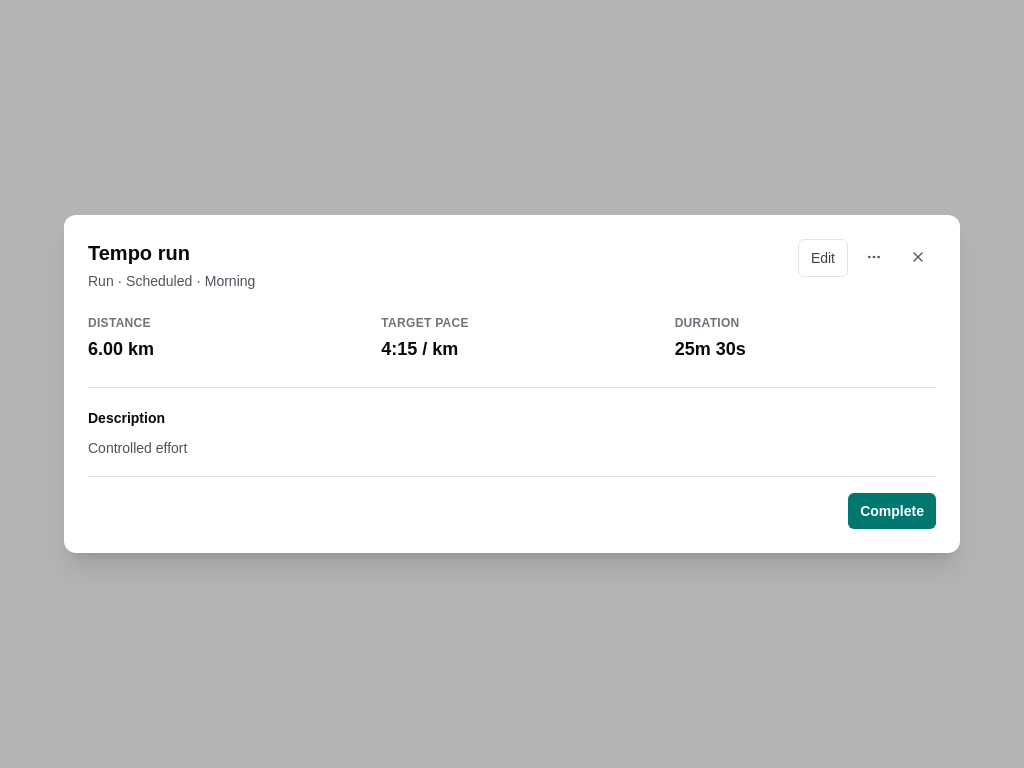
dismisses more actions with Escape before dismissing the modal
This screenshot has width=1024, height=768.
Click the button named "More actions" at (874, 257), box [856,239,892,275]
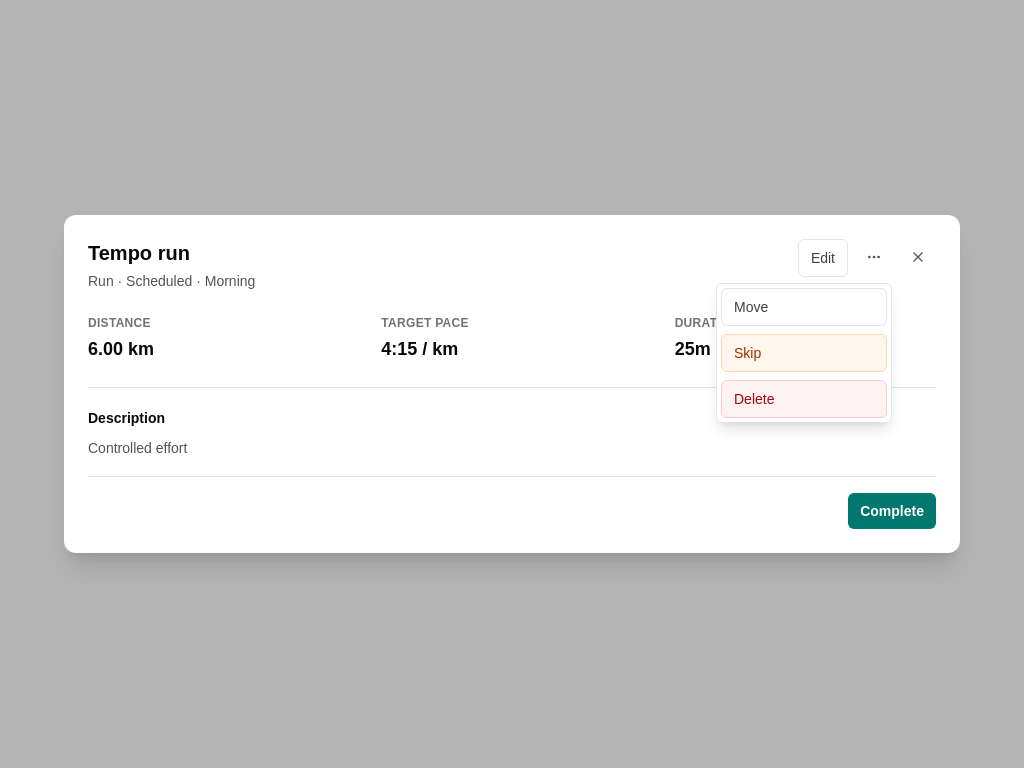
Press Enter in the menu, box [716,283,892,423]
Now the menu is shown
Press Escape in the menu, box [716,283,892,423]
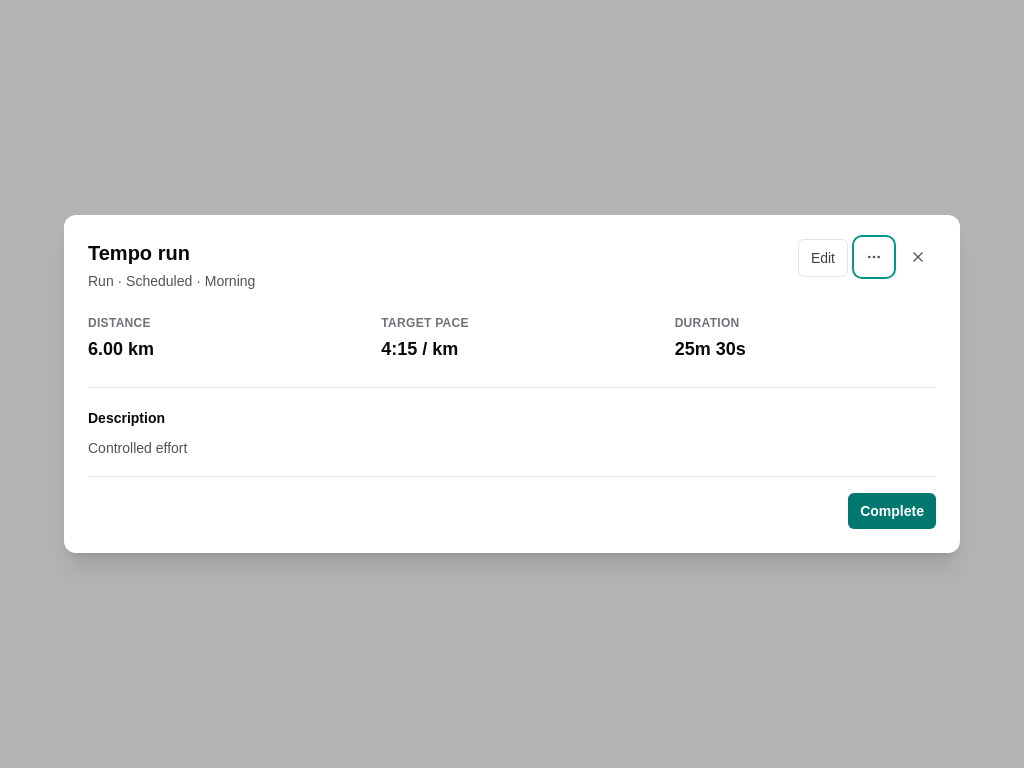
Now the menu is gone
